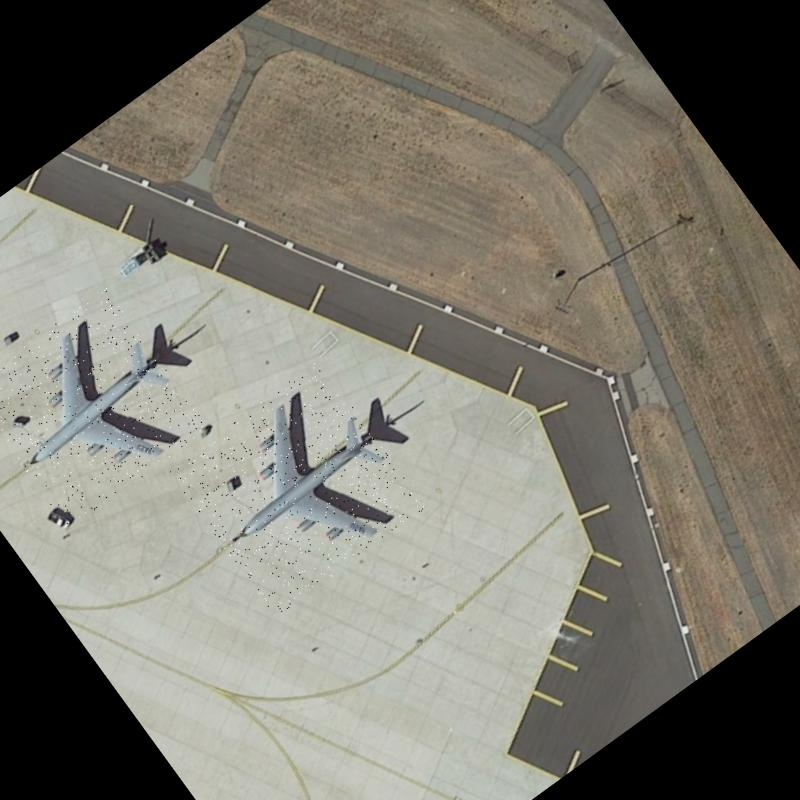A14: (167, 359, 426, 617), (0, 286, 209, 529)
